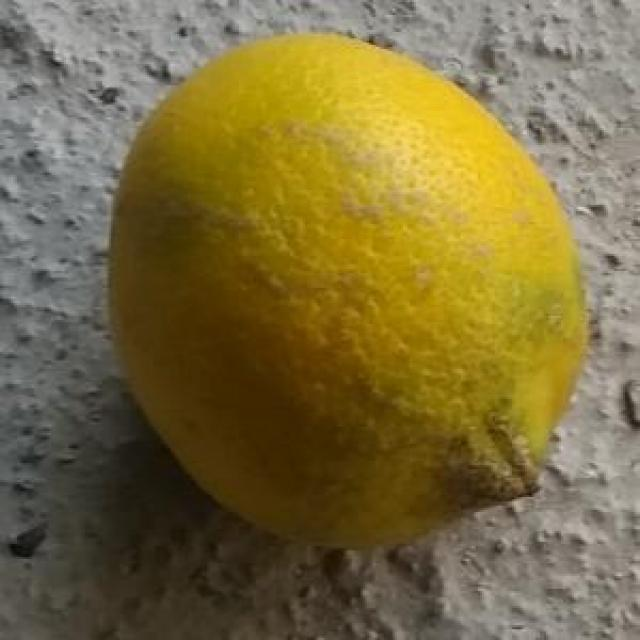lemon: (102, 22, 593, 550)
